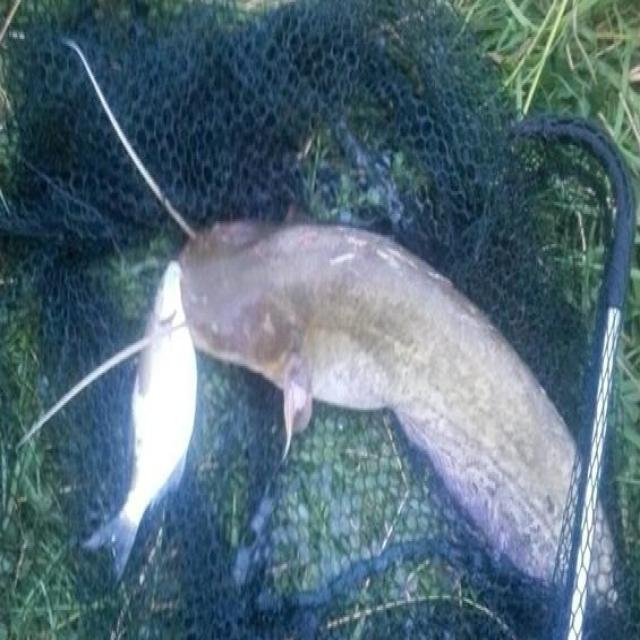Catfish: (165, 187, 629, 620)
